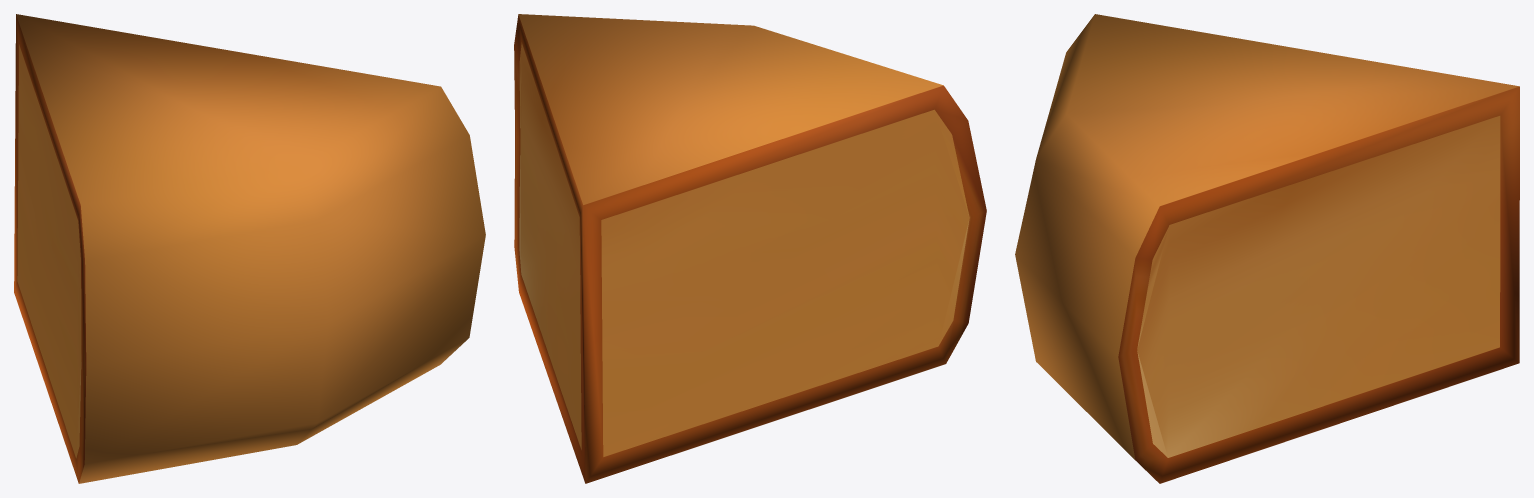
File: Cheese_2.fbx
The picture shows the model from 3 angles, left to right: view 1: azimuth 30°, elevation 25°; view 2: azimuth 150°, elevation 25°; view 3: azimuth 270°, elevation 25°; orthographic projection.
Visible parts, largest first — view 1: Cheese_2; view 2: Cheese_2; view 3: Cheese_2.
Boxes of the visible parts, x1=… form: Cheese_2: x1=14, y1=14, x2=485, y2=483; Cheese_2: x1=514, y1=14, x2=986, y2=483; Cheese_2: x1=1015, y1=14, x2=1519, y2=483.
Bounding box in the file's own units: 0.2719 × 0.1663 × 0.2731.
